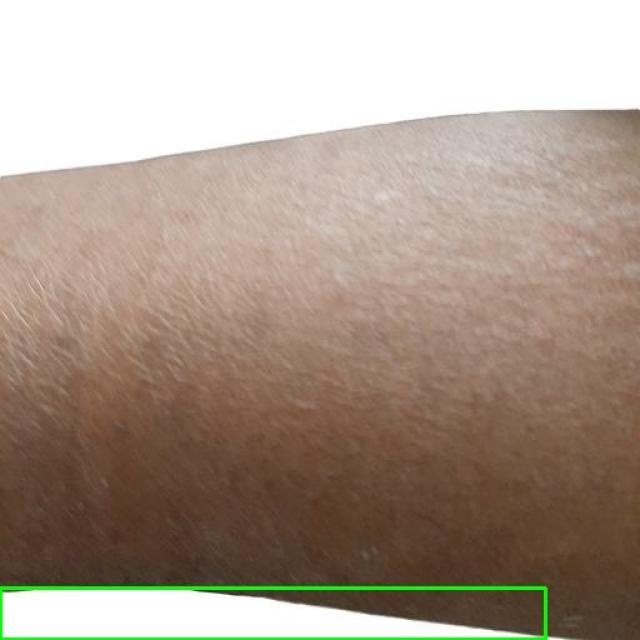Tinea Corporis: (0, 588, 546, 639)
